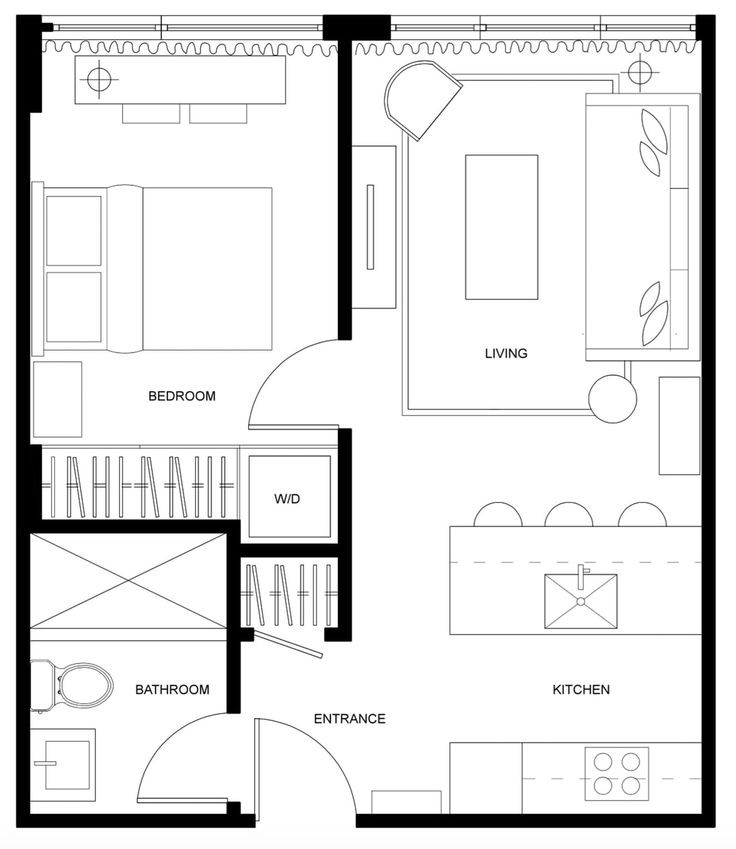door: (226, 334, 369, 438), (246, 706, 359, 825), (133, 707, 257, 807)
room: (350, 29, 705, 528), (15, 7, 359, 456), (360, 528, 705, 815), (21, 529, 255, 825)
wall: (699, 16, 724, 830), (12, 13, 42, 528), (329, 38, 365, 341), (4, 510, 244, 552), (8, 525, 40, 829), (21, 803, 261, 836), (218, 521, 256, 713), (331, 423, 361, 643), (353, 810, 724, 826), (238, 539, 355, 567), (324, 10, 392, 49)
window: (51, 16, 324, 46), (389, 16, 694, 42)
